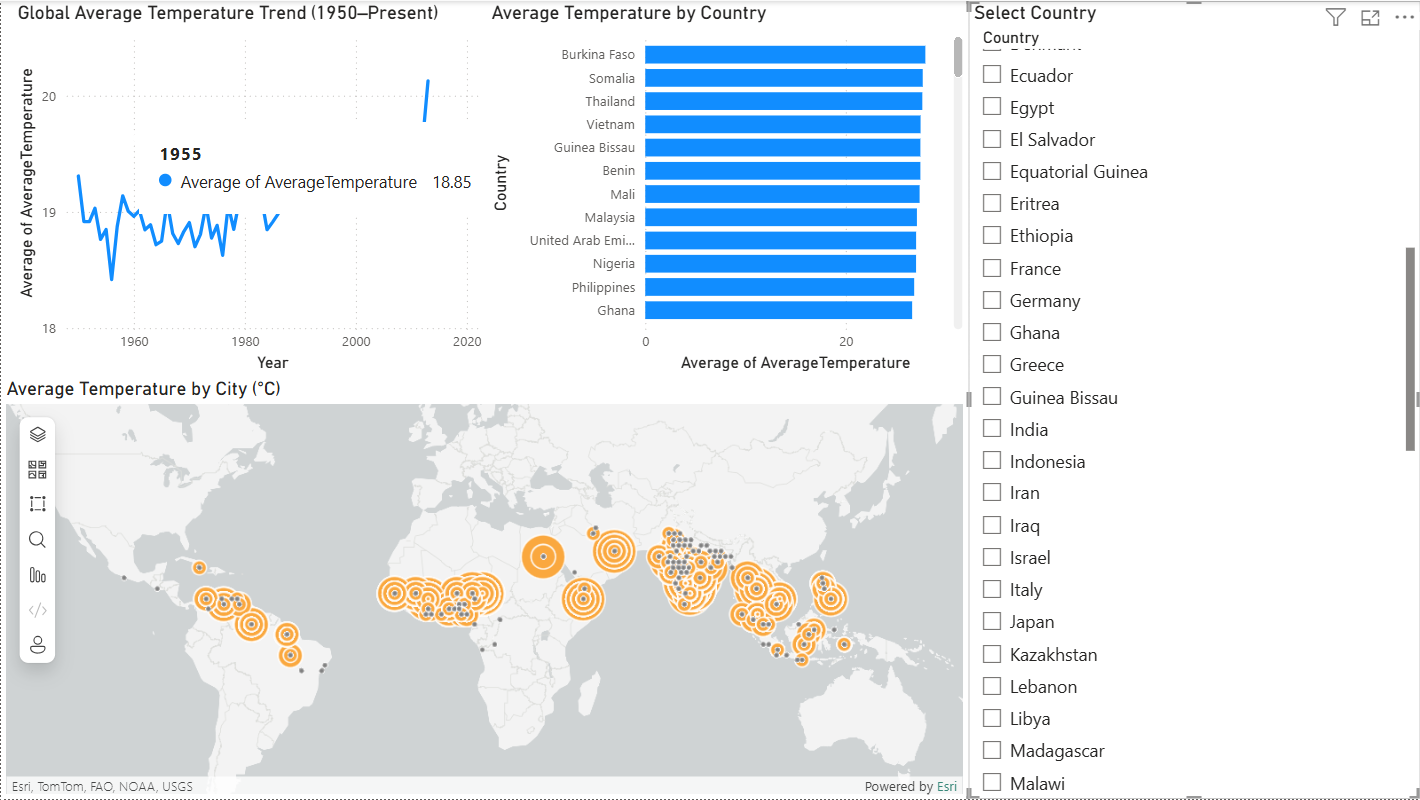

The page's visual inventory and layout, read from the dashboard file:
{"tool":"powerbi","page":{"name":"Page 1","canvas":[1280,720],"ordinal":0},"visuals":[{"type":"lineChart","title":"Global Average Temperature Trend (1950–Present)","fields":{"Category":["cleaned_climate_data_1950.Year"],"Y":["Avg(cleaned_climate_data_1950.AverageTemperature)"]},"box":[9.6,0,428.1,338.9],"z":0},{"type":"barChart","title":"Average Temperature by Country","fields":{"Category":["cleaned_climate_data_1950.Country"],"Y":["Avg(cleaned_climate_data_1950.AverageTemperature)"]},"box":[437.7,0,435,338.9],"z":1000},{"type":"esriVisual","title":"Average Temperature by City (°C)","fields":{"Latitude":["cleaned_climate_data_1950.Latitude"],"Longitude":["cleaned_climate_data_1950.Longitude"],"Location":["cleaned_climate_data_1950.City"],"Size":["Avg(cleaned_climate_data_1950.AverageTemperature)"],"Time":["cleaned_climate_data_1950.Year"]},"box":[0,338.9,872.7,381.5],"z":1001},{"type":"slicer","title":"Select Country","fields":{"Values":["cleaned_climate_data_1950.Country"]},"box":[872.7,0,407.5,720.4],"z":1002}]}

Visuals, with their boxes on the page's 1280x720 design canvas (x1, y1, x2, y2). These are canvas units, not pixel positions in the 1420x800 screenshot, which may show the page scaled, cropped or inside an application window:
"Global Average Temperature Trend (1950–Present)" lineChart: region(10, 0, 438, 339)
"Average Temperature by Country" barChart: region(438, 0, 873, 339)
"Average Temperature by City (°C)" esriVisual: region(0, 339, 873, 720)
"Select Country" slicer: region(873, 0, 1280, 720)
